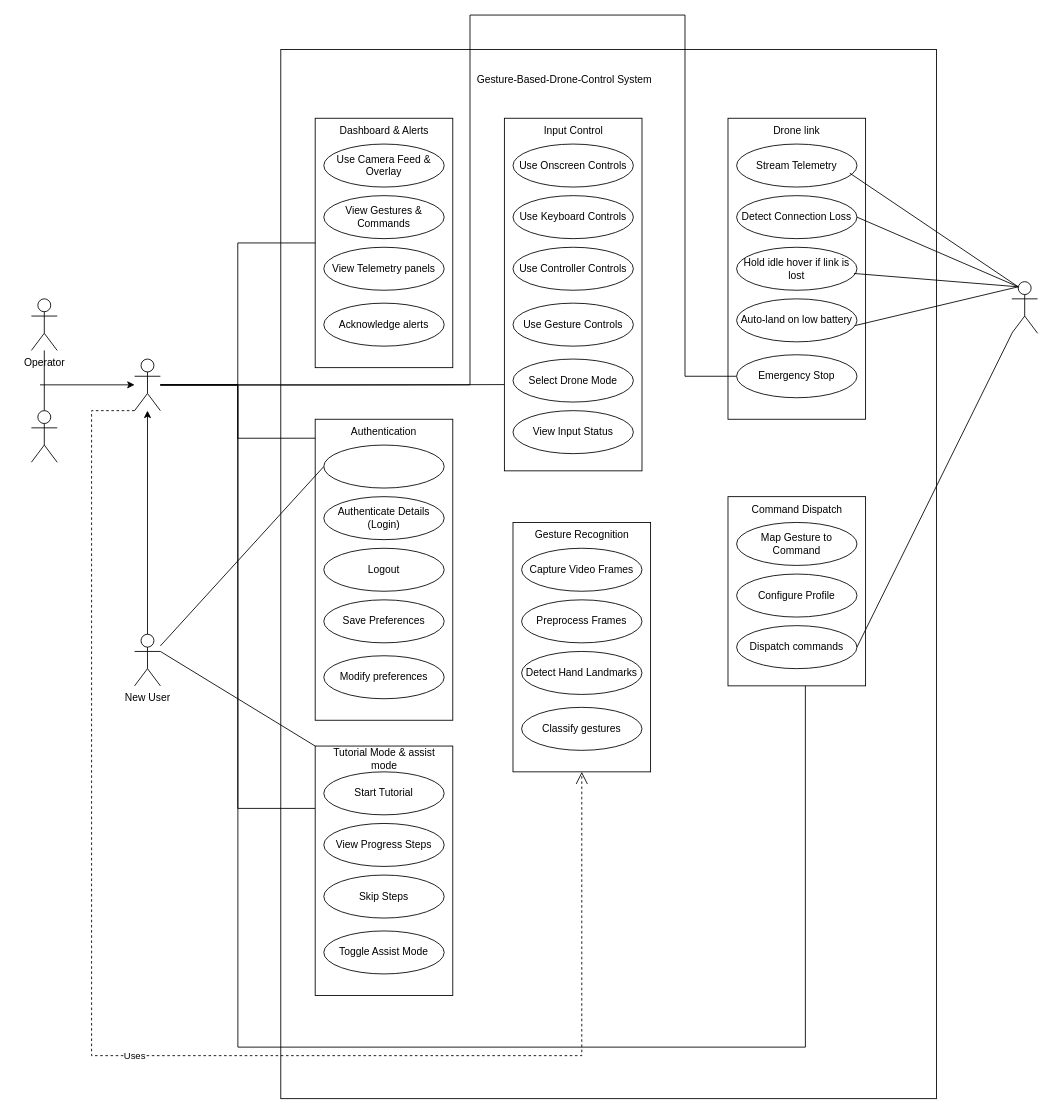
This 1054x1114 diagram has some shape labels left out. The shapes that lost their labels are listed below. From the top down, each one's centre as x and y in pixels, then its label:
At pixel 1024 307: "Drone".
At pixel 147 384: "User".
At pixel 44 436: "Demonstator".
At pixel 383 466: "Register Account".
